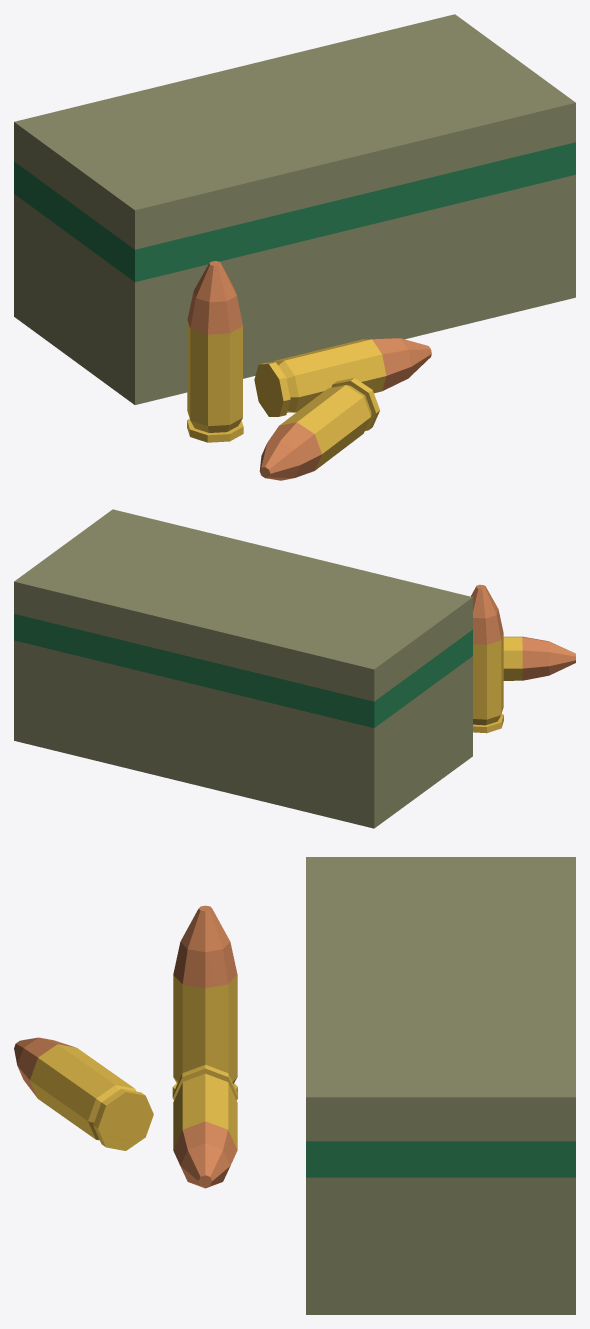
File: Pistol Ammo.glb
The picture shows the model from 3 angles, top to bottom: view 1: azimuth 30°, elevation 25°; view 2: azimuth 150°, elevation 25°; view 3: azimuth 270°, elevation 25°; orthographic projection. The views are drawn at different scales.
Visible parts, largest first — view 1: Ammo_shotgun; view 2: Ammo_shotgun; view 3: Ammo_shotgun.
Boxes of the visible parts, x1,y1,x2,y2 form: Ammo_shotgun: (14, 14, 575, 480); Ammo_shotgun: (14, 509, 575, 828); Ammo_shotgun: (14, 857, 575, 1314).
Bounding box in the file's own units: 0.1778 × 0.0754 × 0.1754.
Materials: 1 (1 with a texture image).
